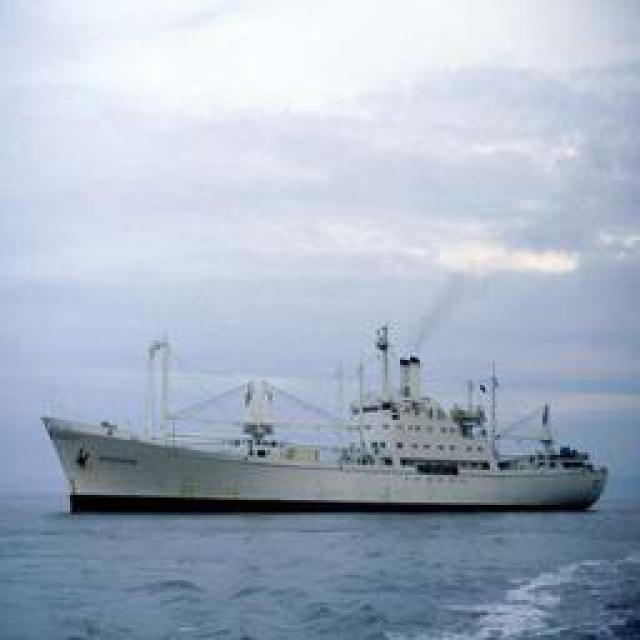Ship: (38, 382, 616, 510)
